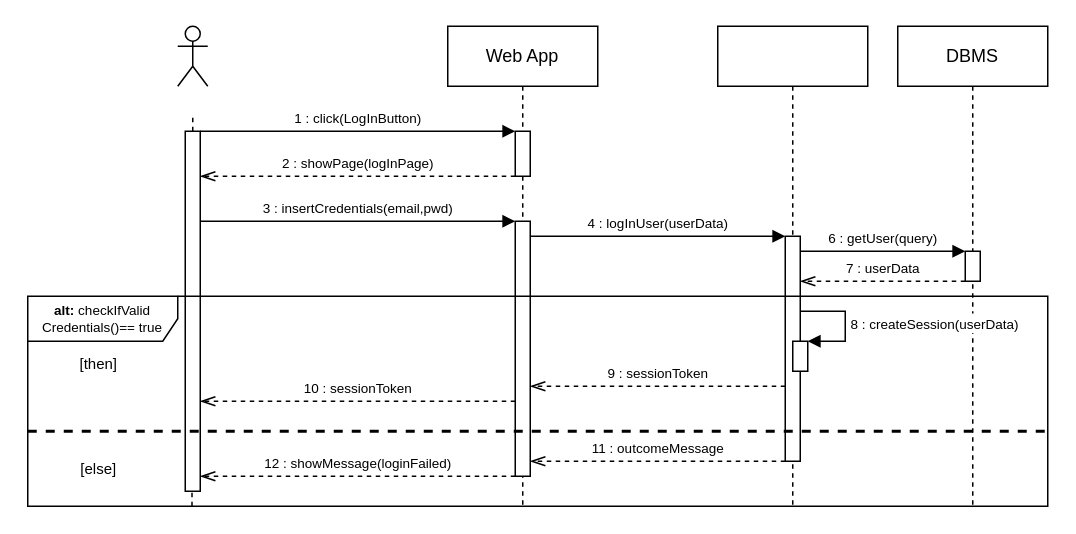
This 1076x534 diagram has some shape labels left out. Here are the shapes that lost their labels. From the top down, the centre of each, then its label:
pixel 192 55: User
pixel 792 265: Account Manager
